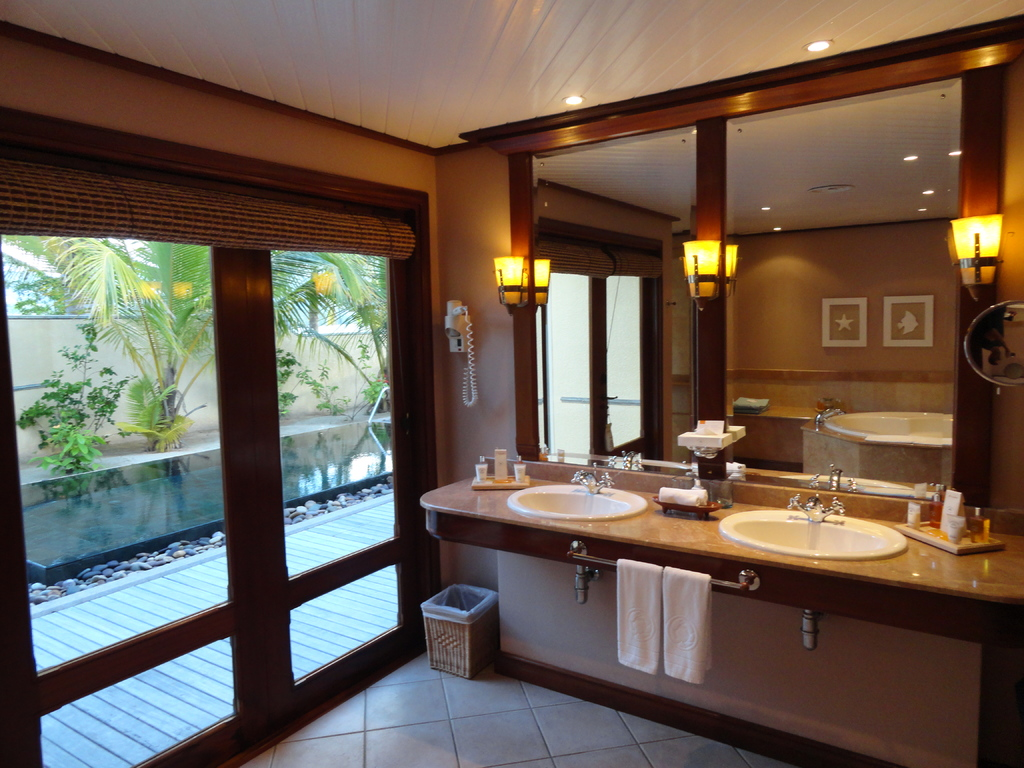tap: (778, 489, 844, 527), (566, 467, 610, 488)
